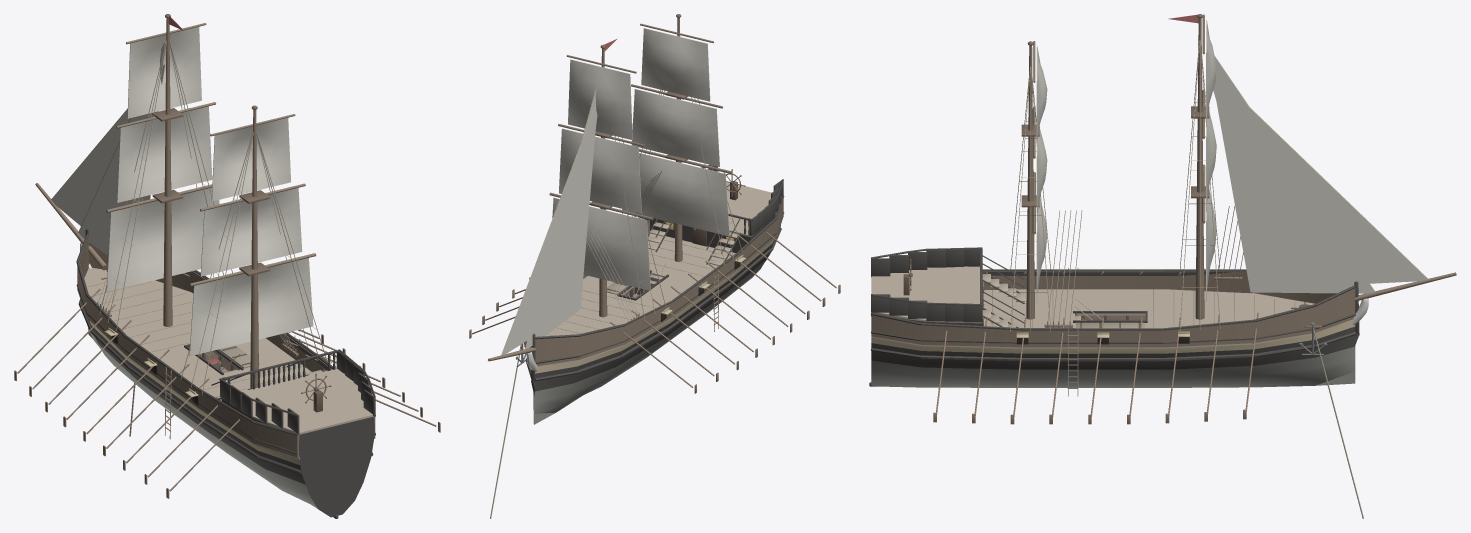
The model's file is ship_brig.gltf.
3 renders of one model, left to right at view 1: azimuth 30°, elevation 25°; view 2: azimuth 150°, elevation 25°; view 3: azimuth 270°, elevation 25°, orthographic. The views are drawn at different scales.
Parts seen in each view (by area): view 1: Body, Sail, Sail2, Jib, OarsL, Yard, OarsR, Yard2; view 2: Body, Sail, Sail2, Jib, OarsL, Yard, Yard2; view 3: Body, Jib, OarsR, Sail, Sail2.
Part boxes in pixels (box(x1,y1,x2,y2)): Body: box(35, 14, 375, 518); Sail: box(189, 118, 313, 356); Sail2: box(106, 27, 219, 291); Jib: box(51, 42, 165, 255); OarsL: box(14, 288, 239, 498); Yard: box(189, 114, 316, 286); OarsR: box(182, 273, 440, 432); Yard2: box(106, 23, 215, 212); Body: box(488, 14, 784, 424); Sail: box(622, 28, 729, 236); Sail2: box(552, 59, 650, 290); Jib: box(501, 87, 597, 355); OarsL: box(610, 232, 840, 393); Yard: box(631, 23, 732, 173); Yard2: box(549, 55, 653, 220); Body: box(869, 14, 1456, 396); Jib: box(1213, 56, 1427, 293); OarsR: box(933, 312, 1258, 424); Sail: box(1036, 46, 1047, 302); Sail2: box(1206, 20, 1216, 301).
Size of the model in its own units: 15.68 by 26.41 by 29.12.
